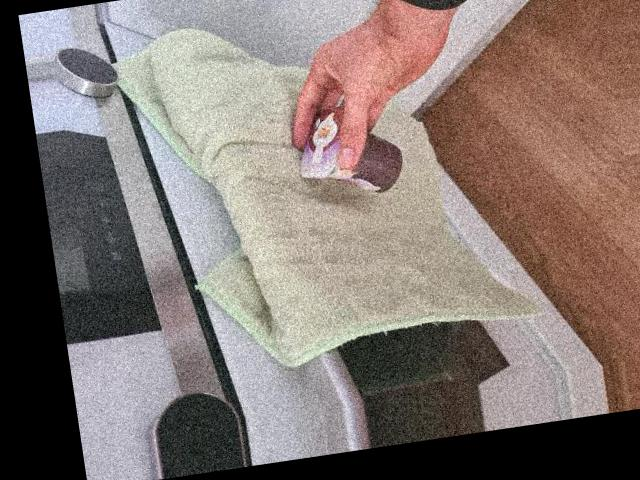milky: (290, 99, 406, 204)
